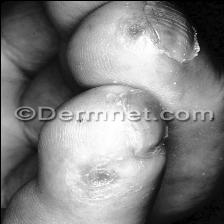Unclassified: (129, 0, 176, 54), (84, 156, 121, 188)
